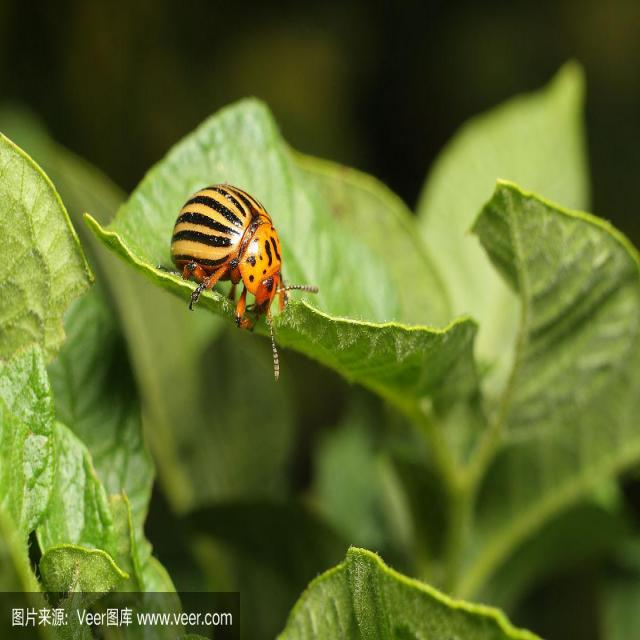ShuCaiHuaBanChong-Grown-: (160, 171, 293, 339)
